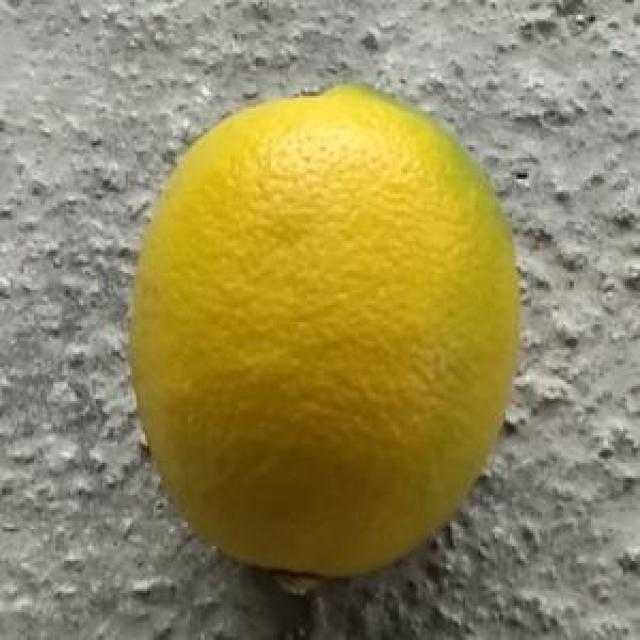lemon: (122, 82, 527, 594)
